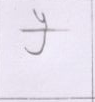ai_matra: (33, 8, 53, 28)
